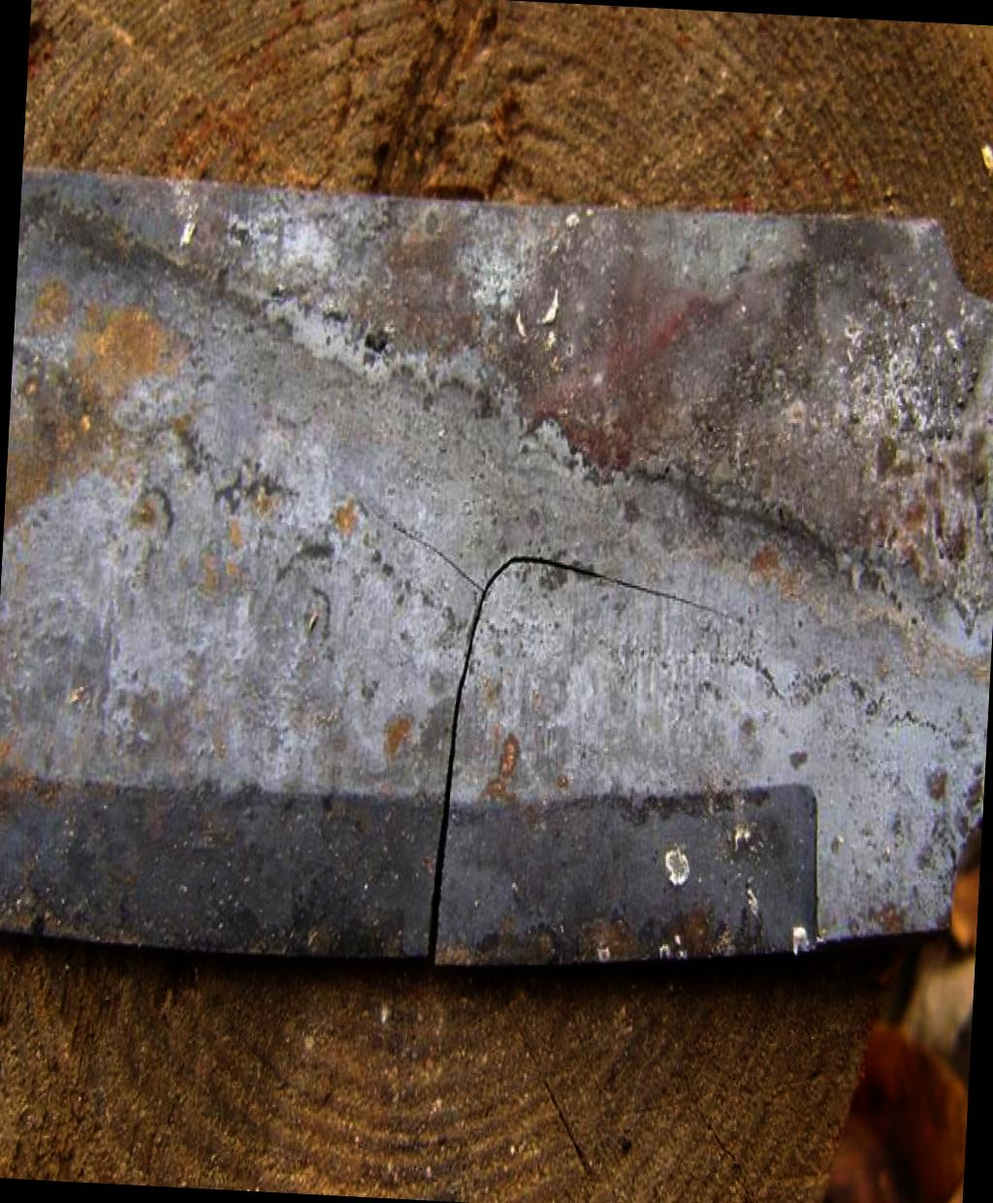crack: (416, 545, 721, 979)
